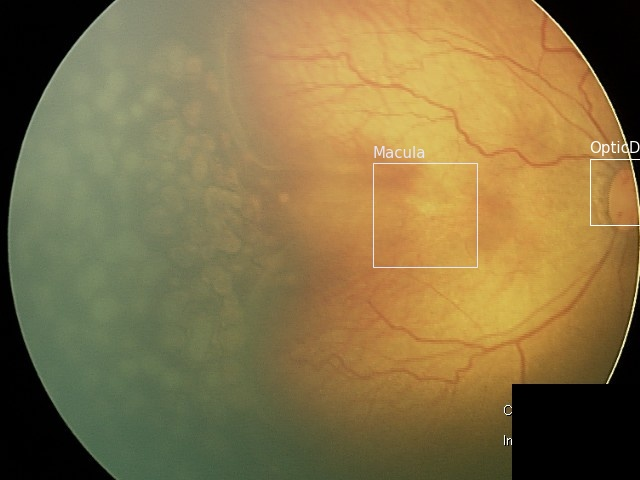Macula: (372, 162, 476, 266)
OpticDisk: (589, 158, 640, 224)
